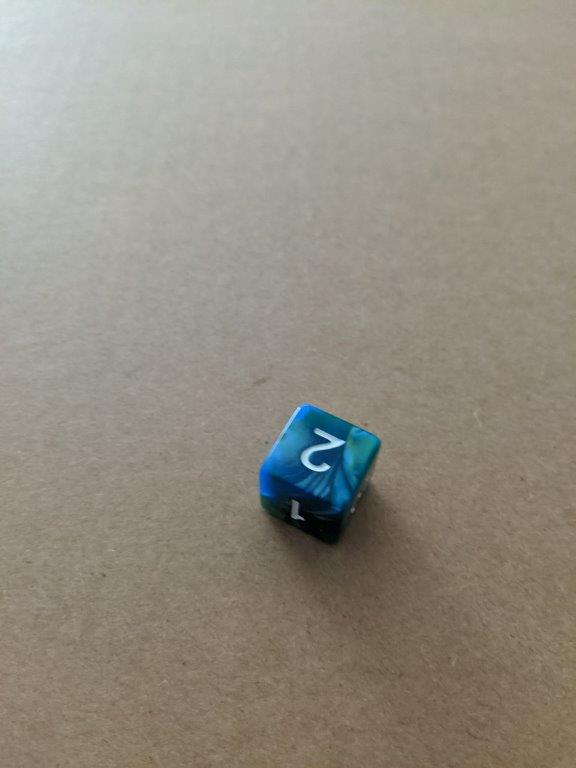d6-2: (259, 403, 382, 545)
